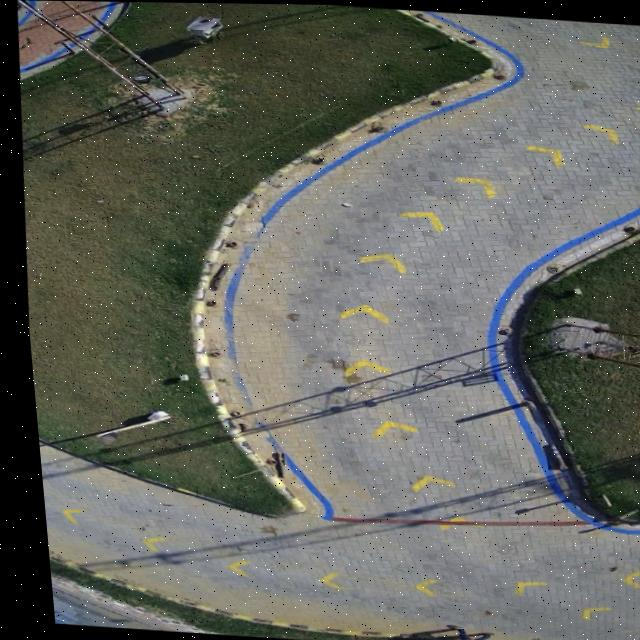No Car: (16, 0, 640, 640)
